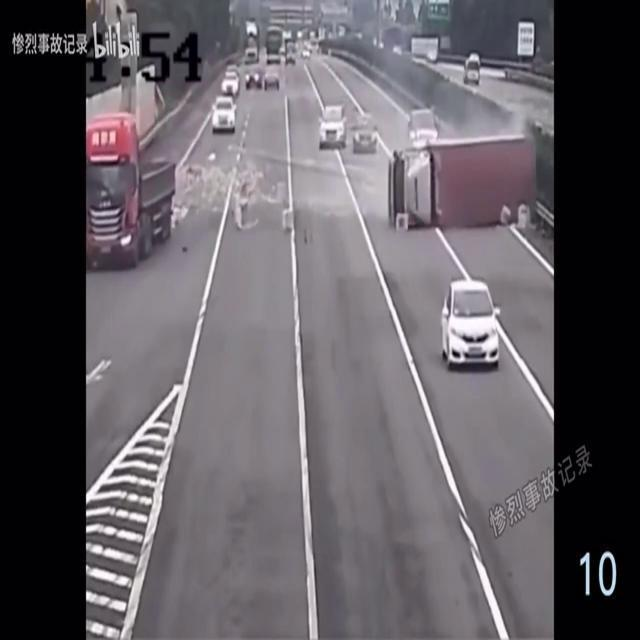accident: (389, 139, 535, 231)
non-accident: (212, 63, 242, 131)
